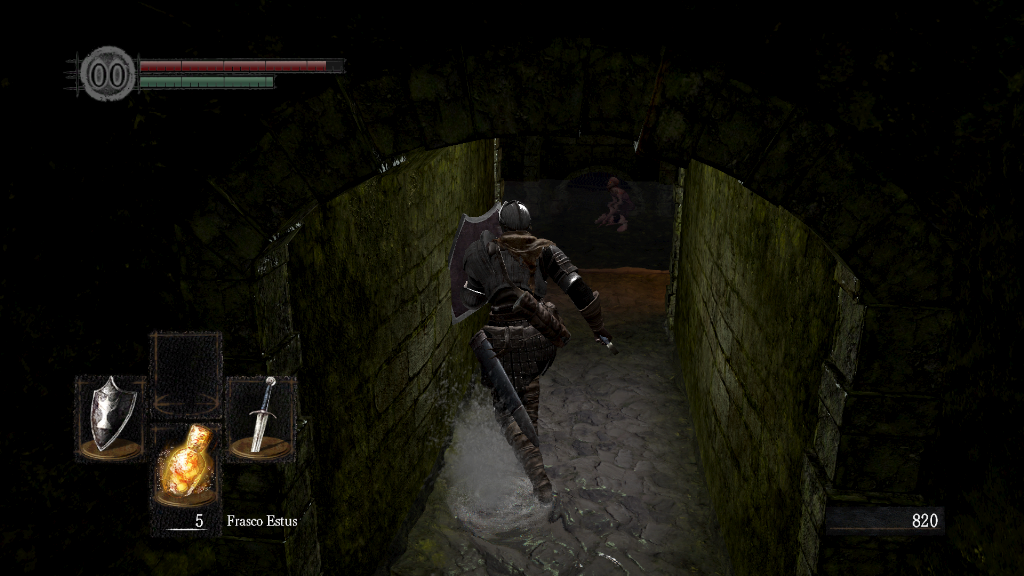health: (138, 58, 343, 71)
hollow: (595, 177, 630, 231)
humanity: (80, 45, 136, 102)
player: (448, 197, 620, 507)
souls: (825, 506, 945, 536)
stamina: (138, 74, 274, 88)
